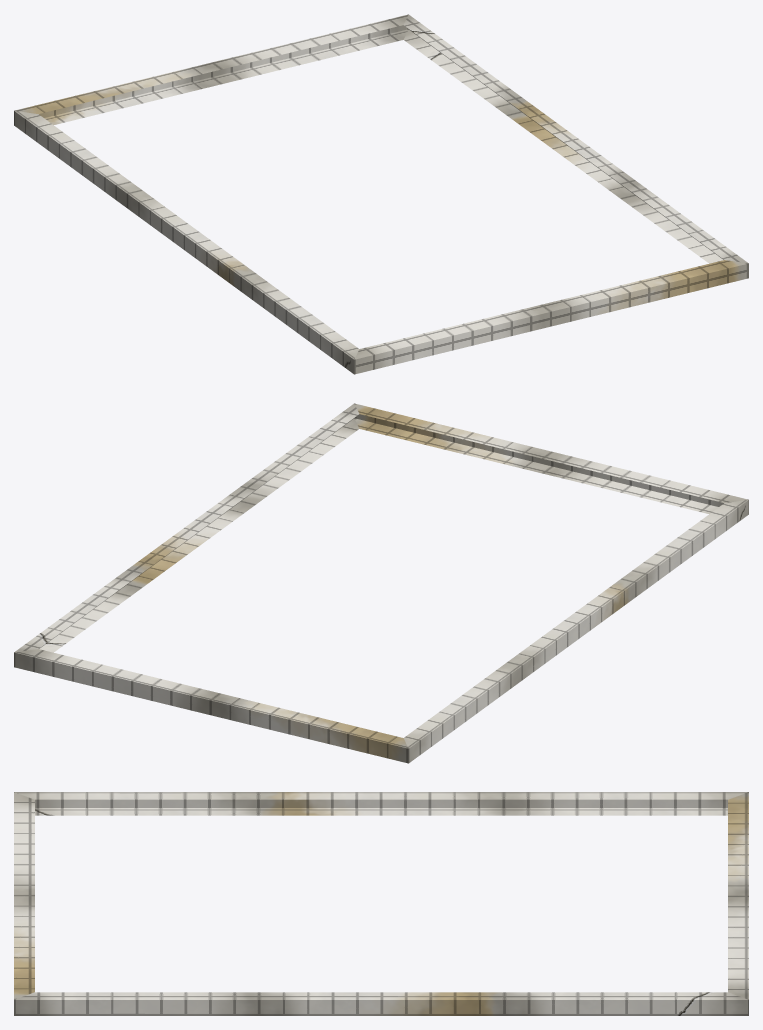
The model's file is TesteiraCasaCorredorGrade 1.fbx.
3 renders of one model, top to bottom at view 1: azimuth 30°, elevation 25°; view 2: azimuth 150°, elevation 25°; view 3: azimuth 270°, elevation 25°, orthographic. The views are drawn at different scales.
Visible parts, largest first — view 1: TesteiraCasaCorredorGrade; view 2: TesteiraCasaCorredorGrade; view 3: TesteiraCasaCorredorGrade.
Boxes of the visible parts, x1,y1,x2,y2 form: TesteiraCasaCorredorGrade: (14,14,748,374); TesteiraCasaCorredorGrade: (14,403,748,763); TesteiraCasaCorredorGrade: (14,792,748,1015).
Size of the model in its own units: 1483 by 53.15 by 2215.
